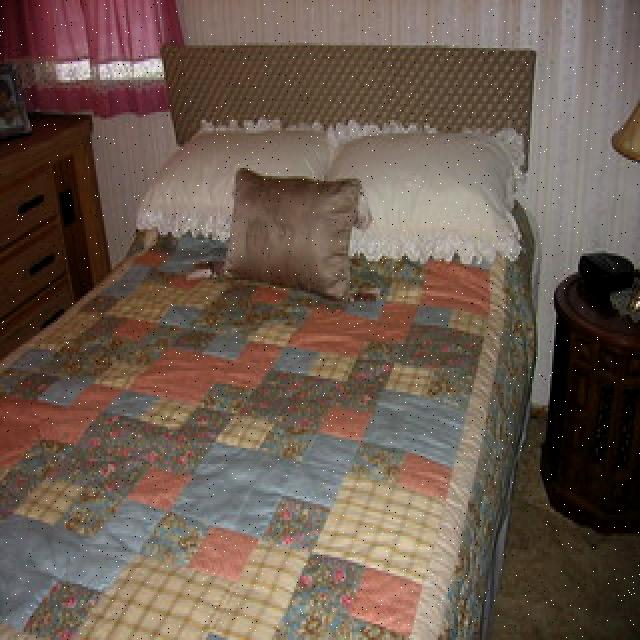bed: (0, 40, 544, 640)
